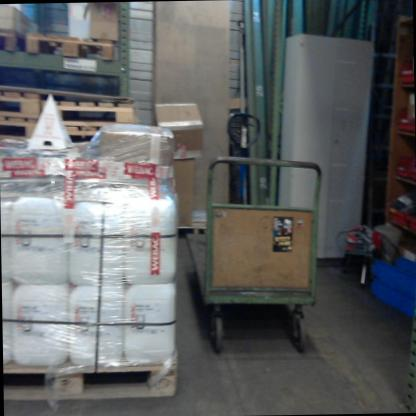pallet: (4, 334, 186, 405), (23, 29, 122, 67), (40, 93, 140, 127), (45, 122, 141, 153), (0, 75, 45, 119), (168, 217, 217, 247), (0, 117, 45, 147), (0, 24, 32, 58)
pallet_truck: (213, 104, 264, 215)
